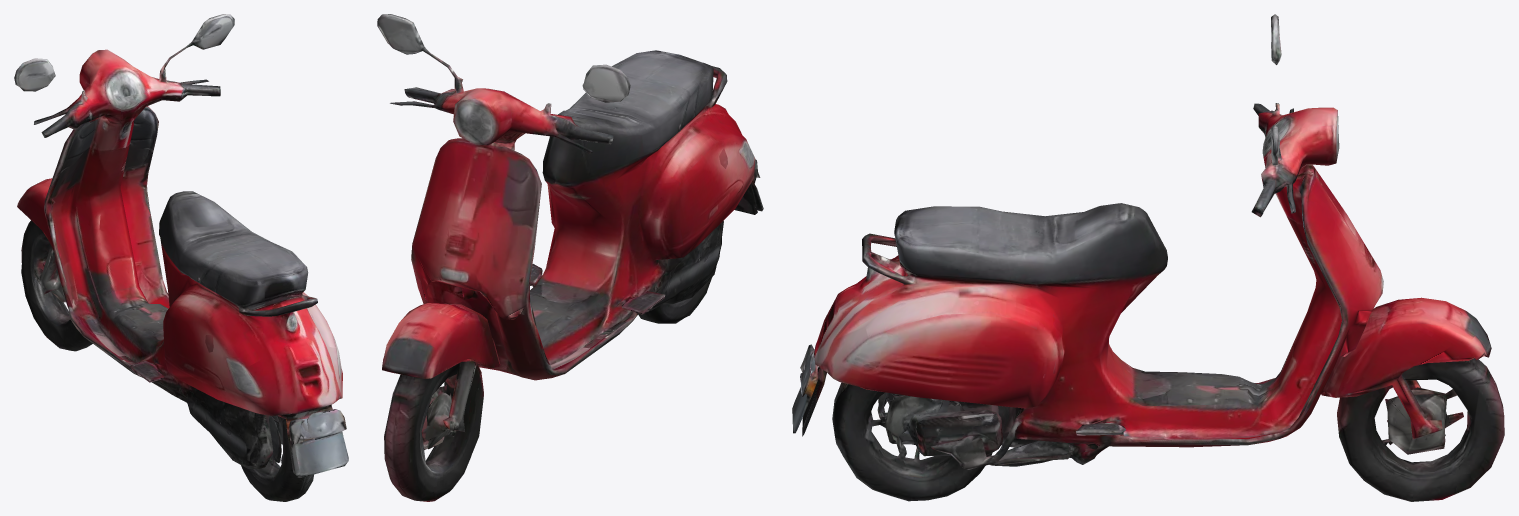
The model's file is scooter-red.glb.
3 views of the same model, side by side, from view 1: azimuth 30°, elevation 25°; view 2: azimuth 150°, elevation 25°; view 3: azimuth 270°, elevation 25° (orthographic). The views are drawn at different scales.
Size of the model in its own units: 0.8623 by 1.32 by 2.
Materials: 1 (1 with a texture image).
